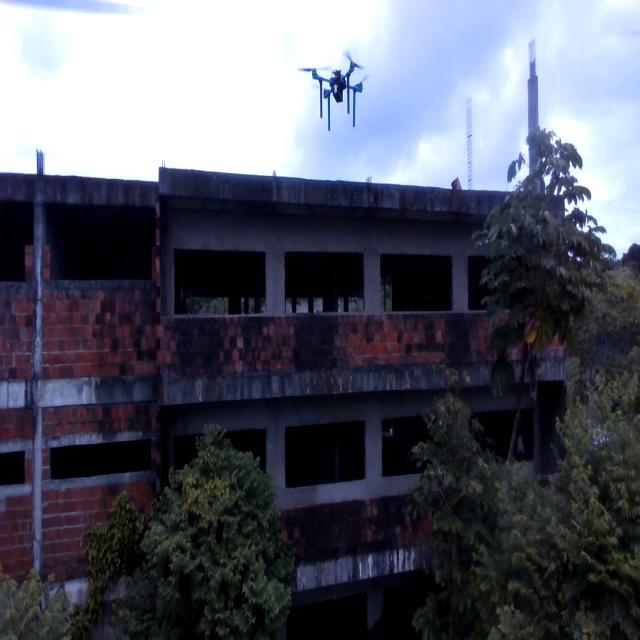-uav-: (302, 25, 372, 142)
